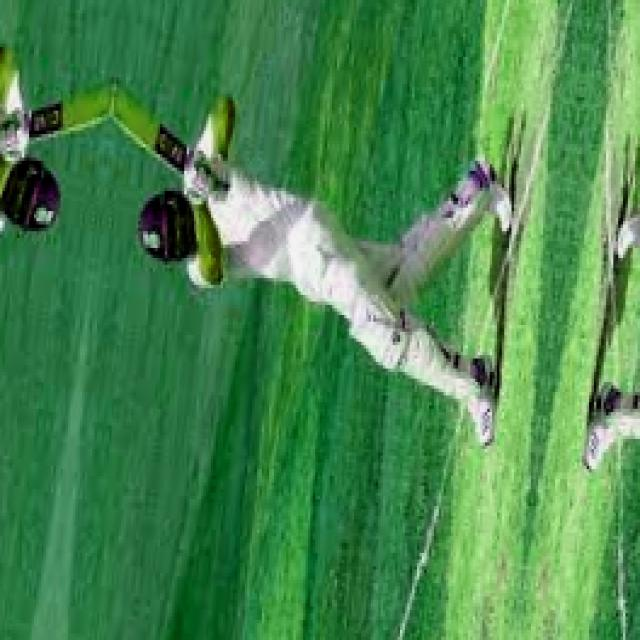toe: (109, 79, 143, 141)
